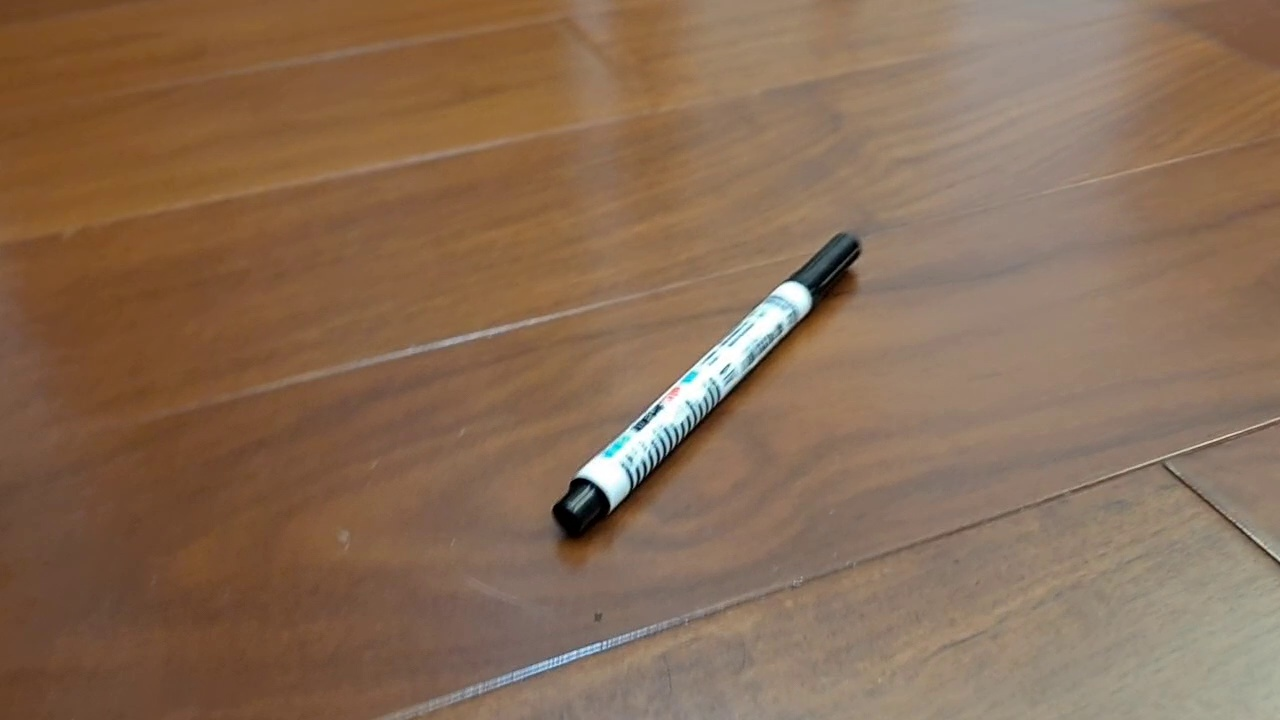pen: (551, 231, 862, 540)
